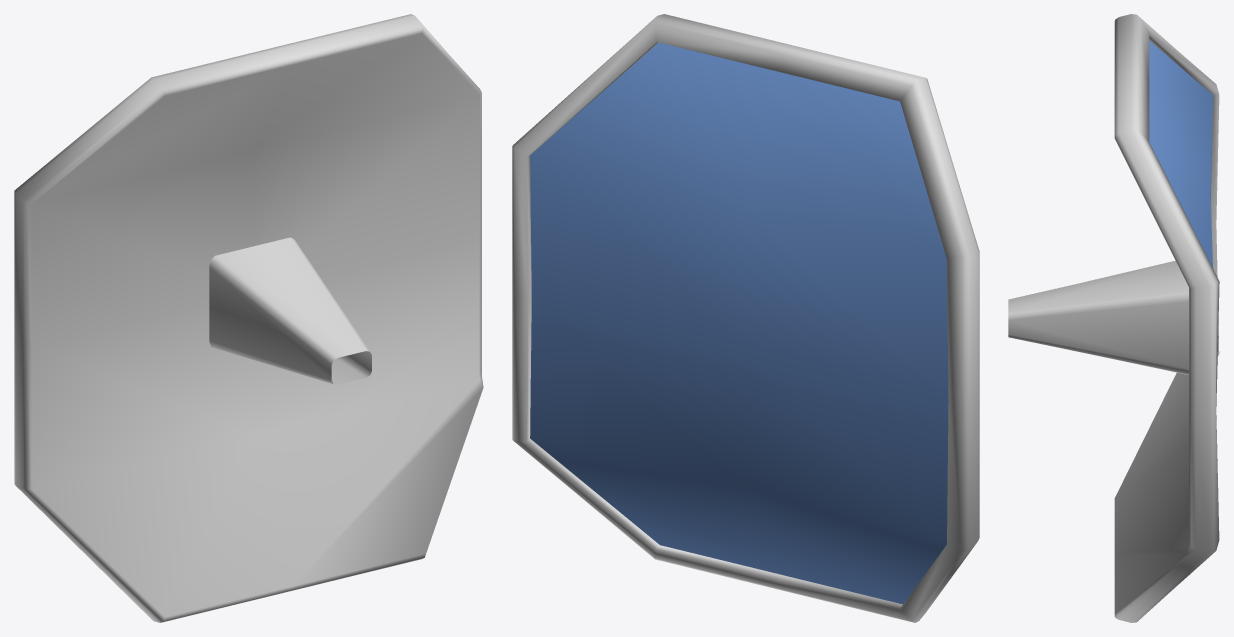
File: shild_2.fbx
3 views of the same model, side by side, from view 1: azimuth 30°, elevation 25°; view 2: azimuth 150°, elevation 25°; view 3: azimuth 270°, elevation 25° (orthographic). The views are drawn at different scales.
Parts seen in each view (by area): view 1: shild_2; view 2: shild_2; view 3: shild_2.
Part boxes in pixels (left/top/right/bottom): shild_2: left=14, top=14, right=483, bottom=622; shild_2: left=512, top=14, right=979, bottom=622; shild_2: left=1008, top=14, right=1219, bottom=622.
Bounding box in the file's own units: 65.26 × 73.82 × 28.66.
